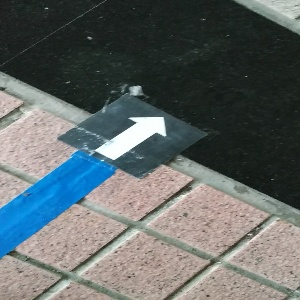straight: (57, 92, 207, 177)
